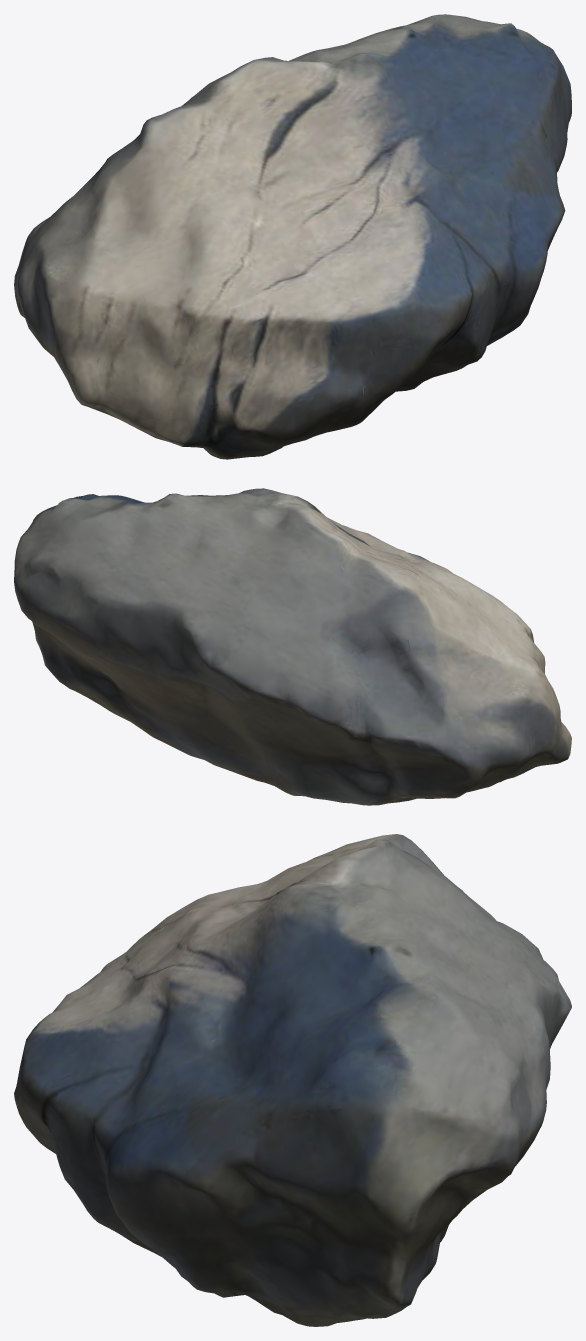
File: pedra-estilizada.glb
3 renders of one model, top to bottom at view 1: azimuth 30°, elevation 25°; view 2: azimuth 150°, elevation 25°; view 3: azimuth 270°, elevation 25°, orthographic. The views are drawn at different scales.
Size of the model in its own units: 2 by 1.1 by 1.39.
1 material, 1 textured.
